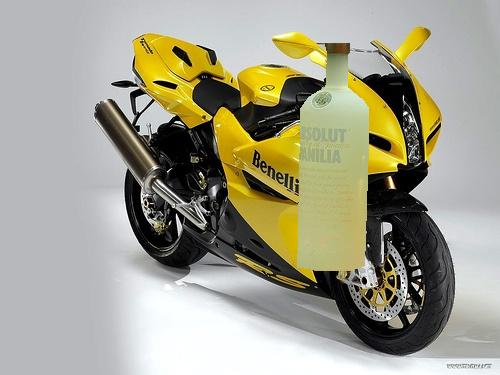tampered: (298, 44, 369, 271)
